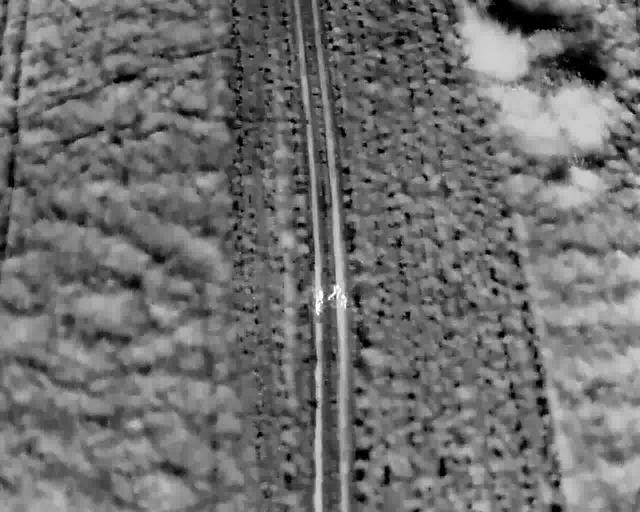person: (327, 283, 342, 300), (313, 297, 324, 316), (338, 291, 348, 310), (314, 287, 324, 305)
